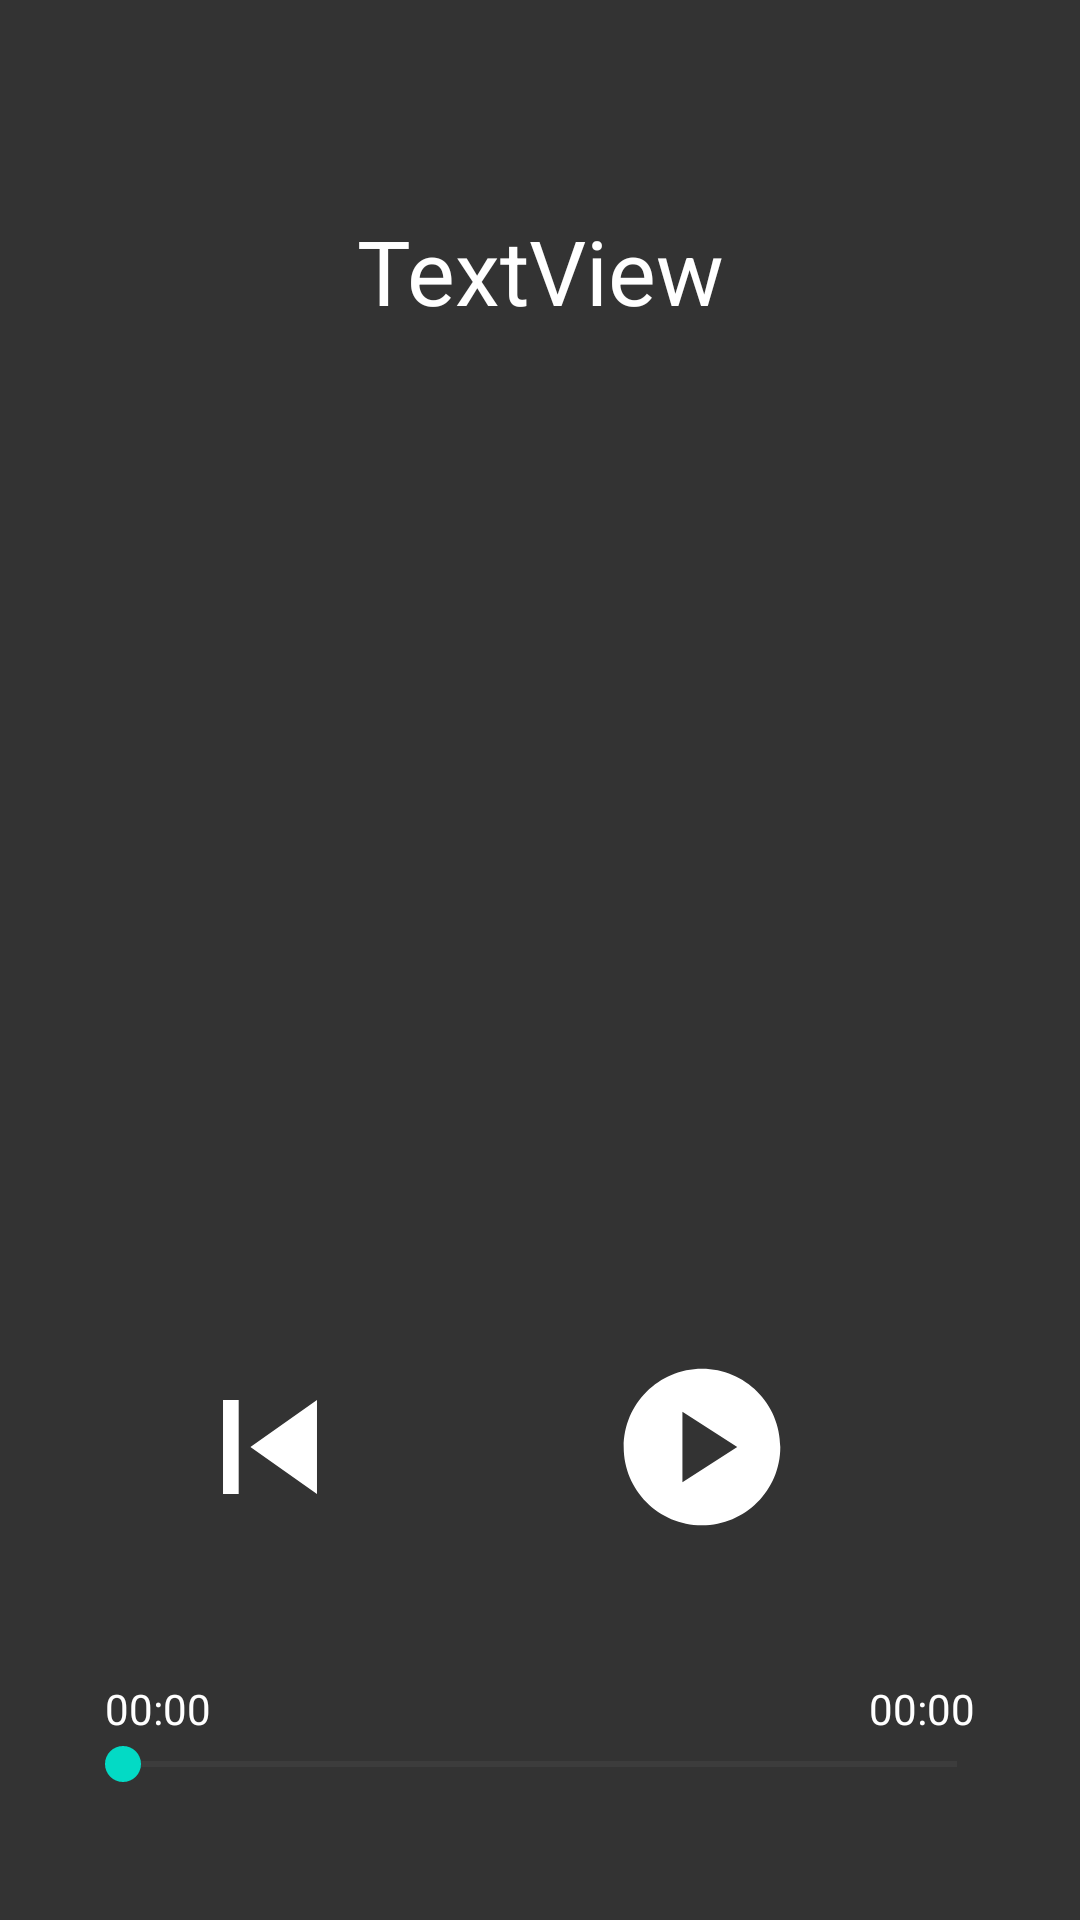

Point at icon controls on the screen. Image size 1080×1920, points as point (x, y).
play back: point (702, 1447)
previous: point (270, 1447)
